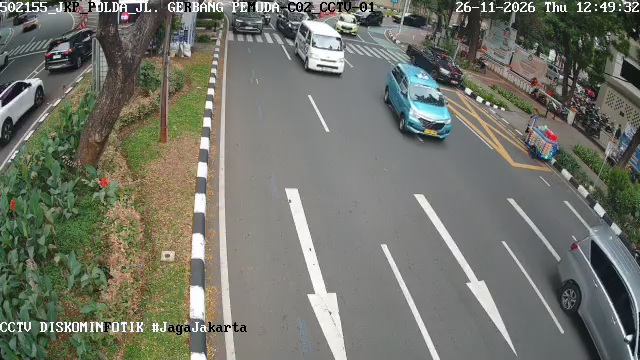Gerobak: (522, 121, 559, 161)
